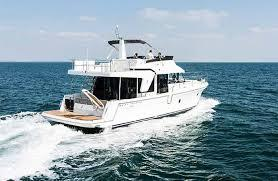Ship: (43, 41, 209, 134)
